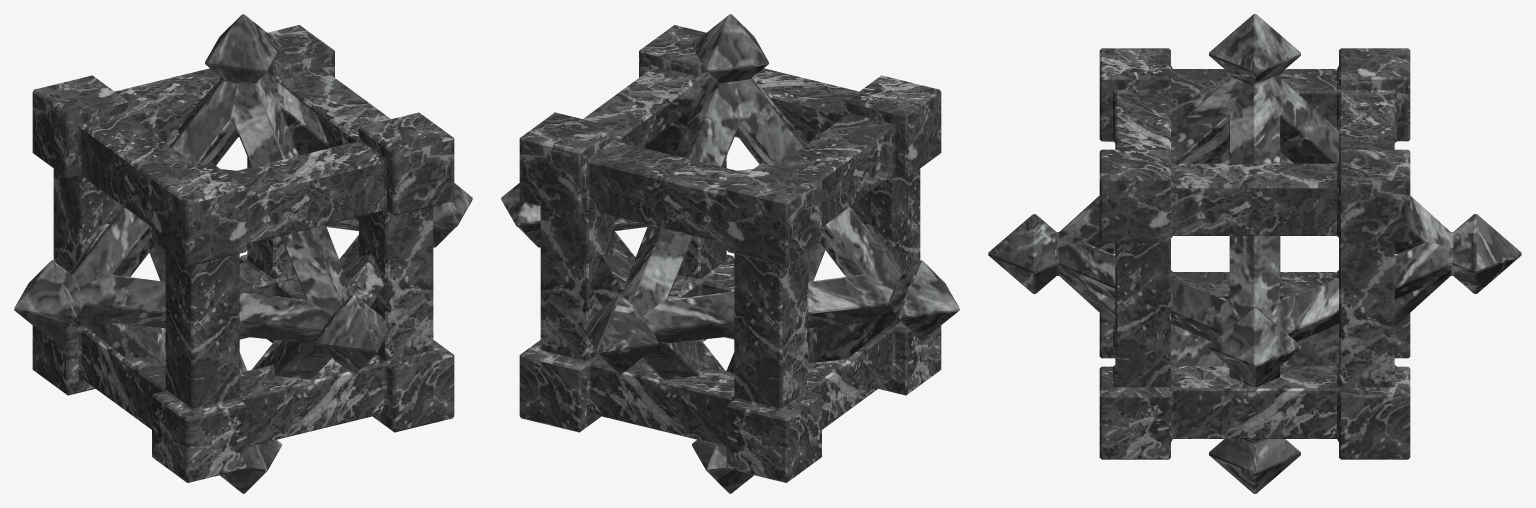
Rendered from queen.glb.
3 views of the same model, side by side, from view 1: azimuth 30°, elevation 25°; view 2: azimuth 150°, elevation 25°; view 3: azimuth 270°, elevation 25° (orthographic).
Parts seen in each view (by area): view 1: queen; view 2: queen; view 3: queen.
Part boxes in pixels (bbox=[...]): queen: bbox=[14, 14, 472, 493]; queen: bbox=[501, 14, 959, 493]; queen: bbox=[988, 14, 1521, 493].
Bounding box in the file's own units: 4.85 × 4.85 × 4.89.
Materials: 1 (1 with a texture image).
